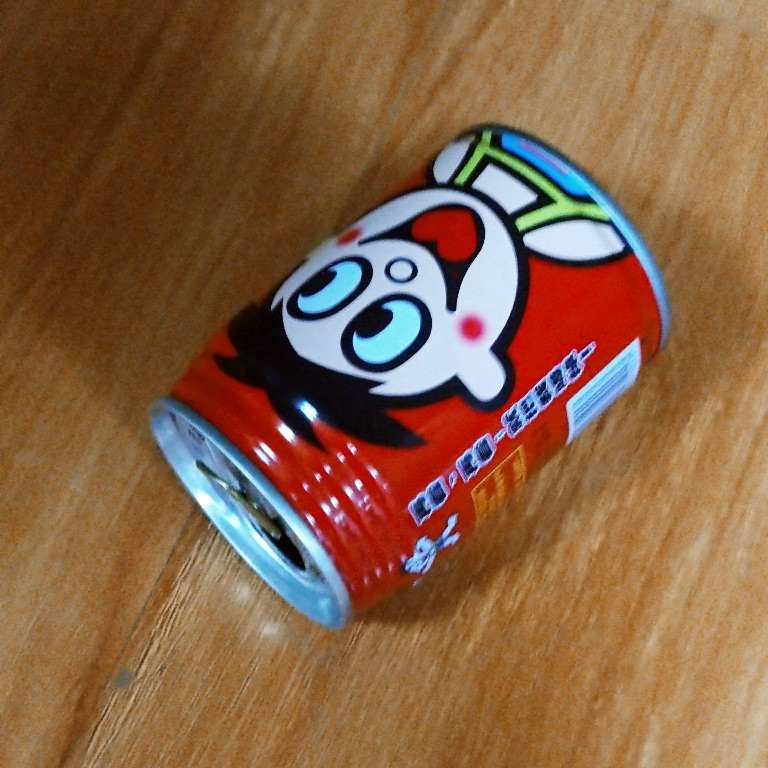can: (140, 119, 675, 634)
